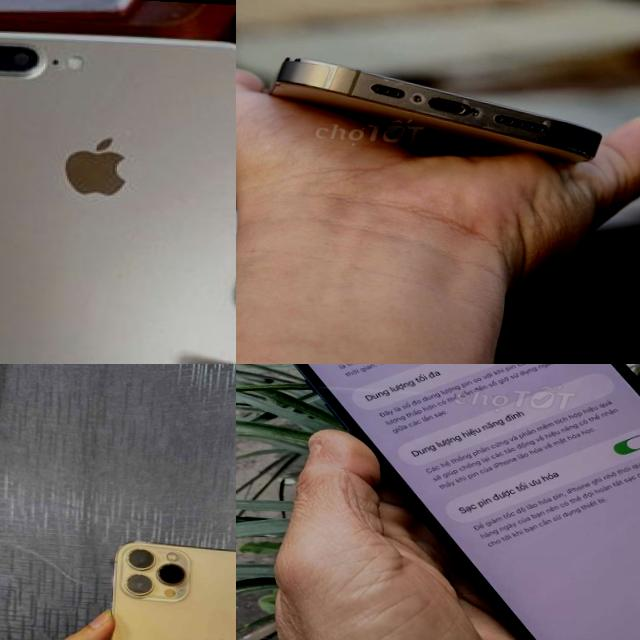physical_damage: (560, 139, 602, 168), (270, 76, 316, 93)
scratch: (455, 95, 494, 132), (359, 70, 419, 92), (404, 87, 426, 106), (535, 118, 553, 132)
